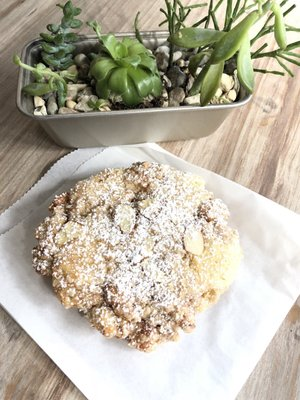sushi: (7, 0, 257, 150)
